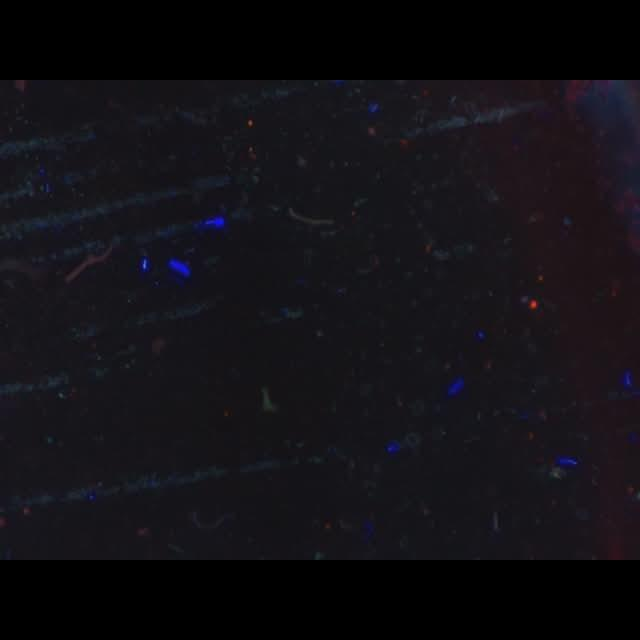Fibre: (260, 386, 278, 412)
